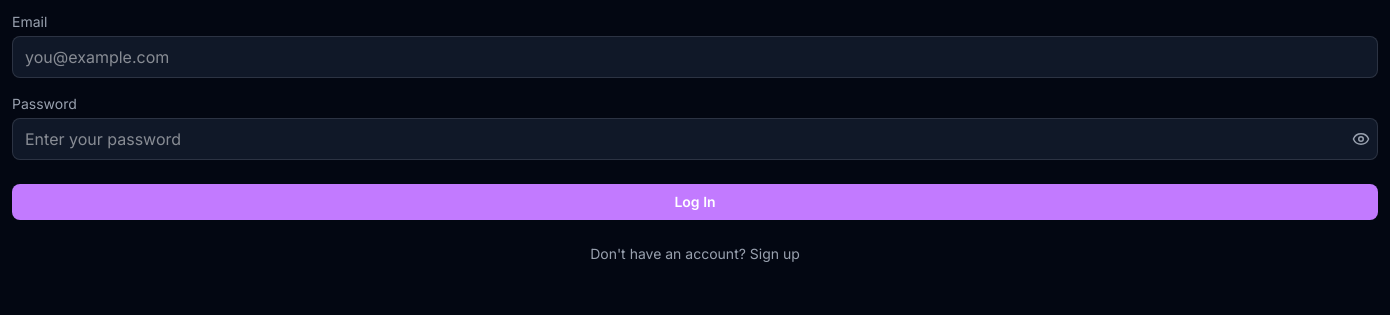
Test: LoginForm › clears error message when user edits email
Type "test@example.com" into the field labelled "Email" at [695, 57], box [12,36,1378,78]
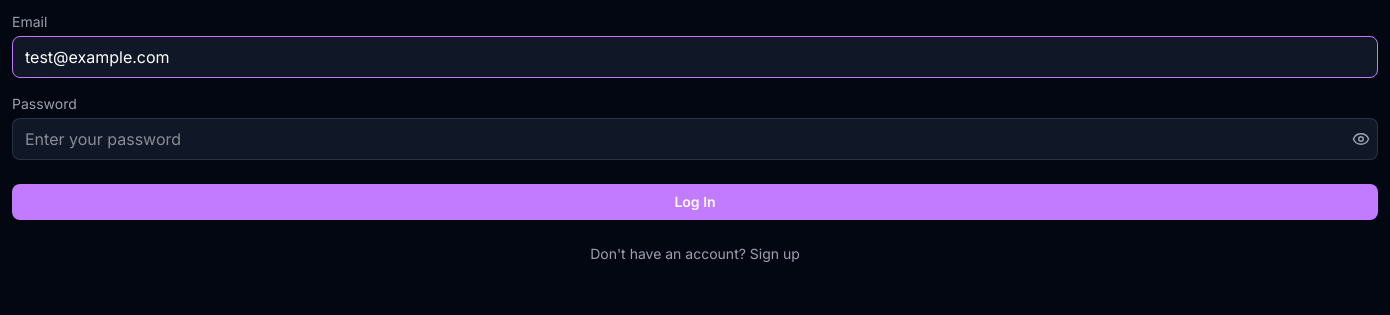
Type "wrong" into the password field labelled "Password" at [695, 139], box [12,118,1378,160]
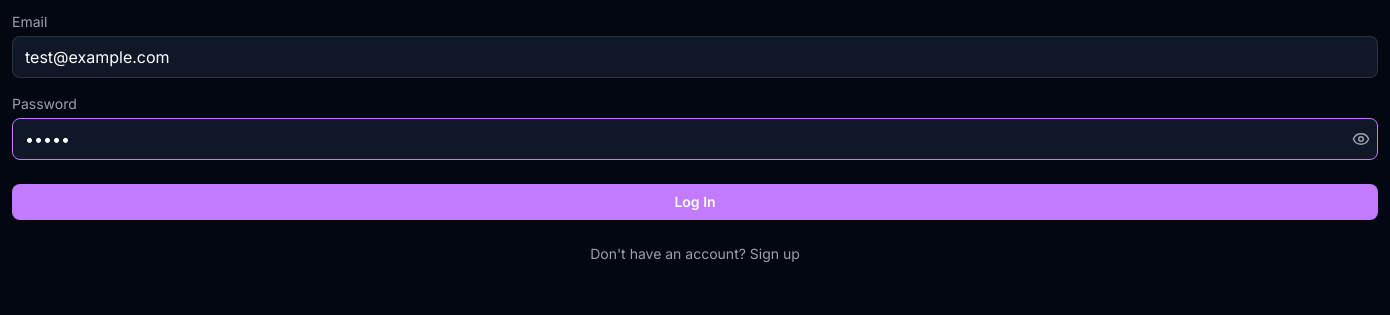
Click the button "Log In" at [695, 202], box [12,184,1378,220]
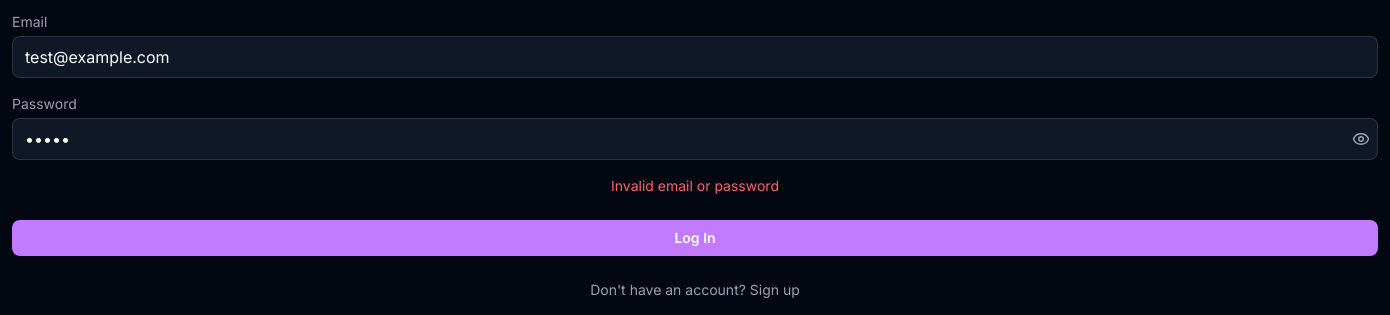
Expected: the message "Invalid email or password" is shown, [611,177,779,194]
Type "x" into the field labelled "Email" at [695, 57], box [12,36,1378,78]
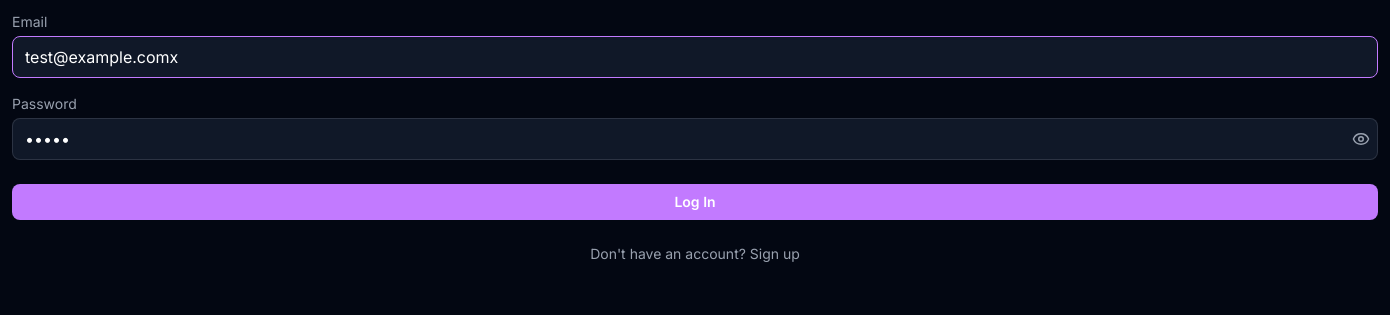
Expected: the message "Invalid email or password" is gone
